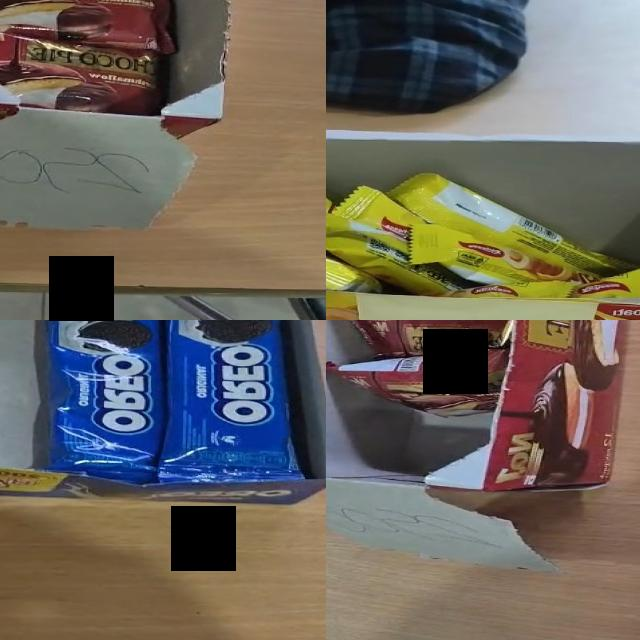Ahh: (386, 172, 640, 279), (408, 222, 610, 288), (326, 211, 476, 295), (330, 185, 432, 246), (326, 201, 385, 293), (438, 279, 578, 299), (567, 265, 640, 298)
Chocopie: (0, 25, 163, 116), (326, 347, 510, 415), (0, 0, 176, 53), (346, 320, 512, 356)
Oreo: (155, 320, 305, 484), (33, 320, 168, 485)
